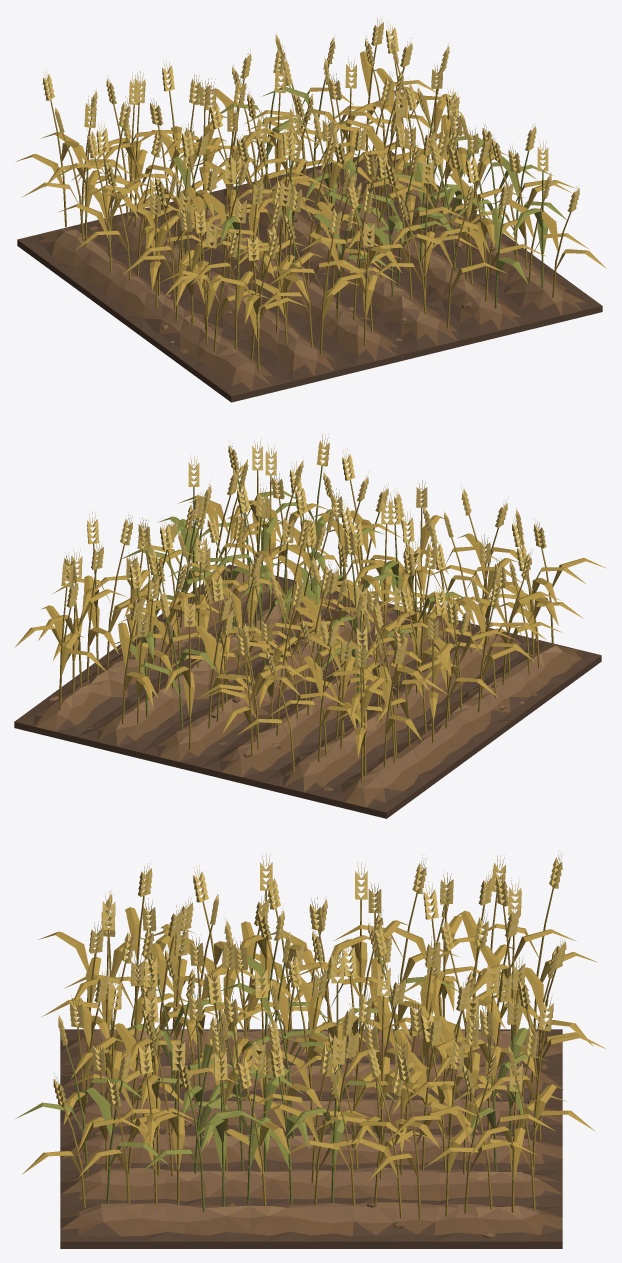
Rendered from wheat-field-v2.glb.
3 views of the same model, one above another, from view 1: azimuth 30°, elevation 25°; view 2: azimuth 150°, elevation 25°; view 3: azimuth 270°, elevation 25° (orthographic). The views are drawn at different scales.
Visible parts, largest first — view 1: Static_mesh; view 2: Static_mesh; view 3: Static_mesh.
Boxes of the visible parts, bbox=[...] form: Static_mesh: bbox=[16, 17, 606, 402]; Static_mesh: bbox=[14, 434, 606, 818]; Static_mesh: bbox=[15, 850, 605, 1248].
Bounding box in the file's own units: 3.12 × 1.26 × 3.31.
